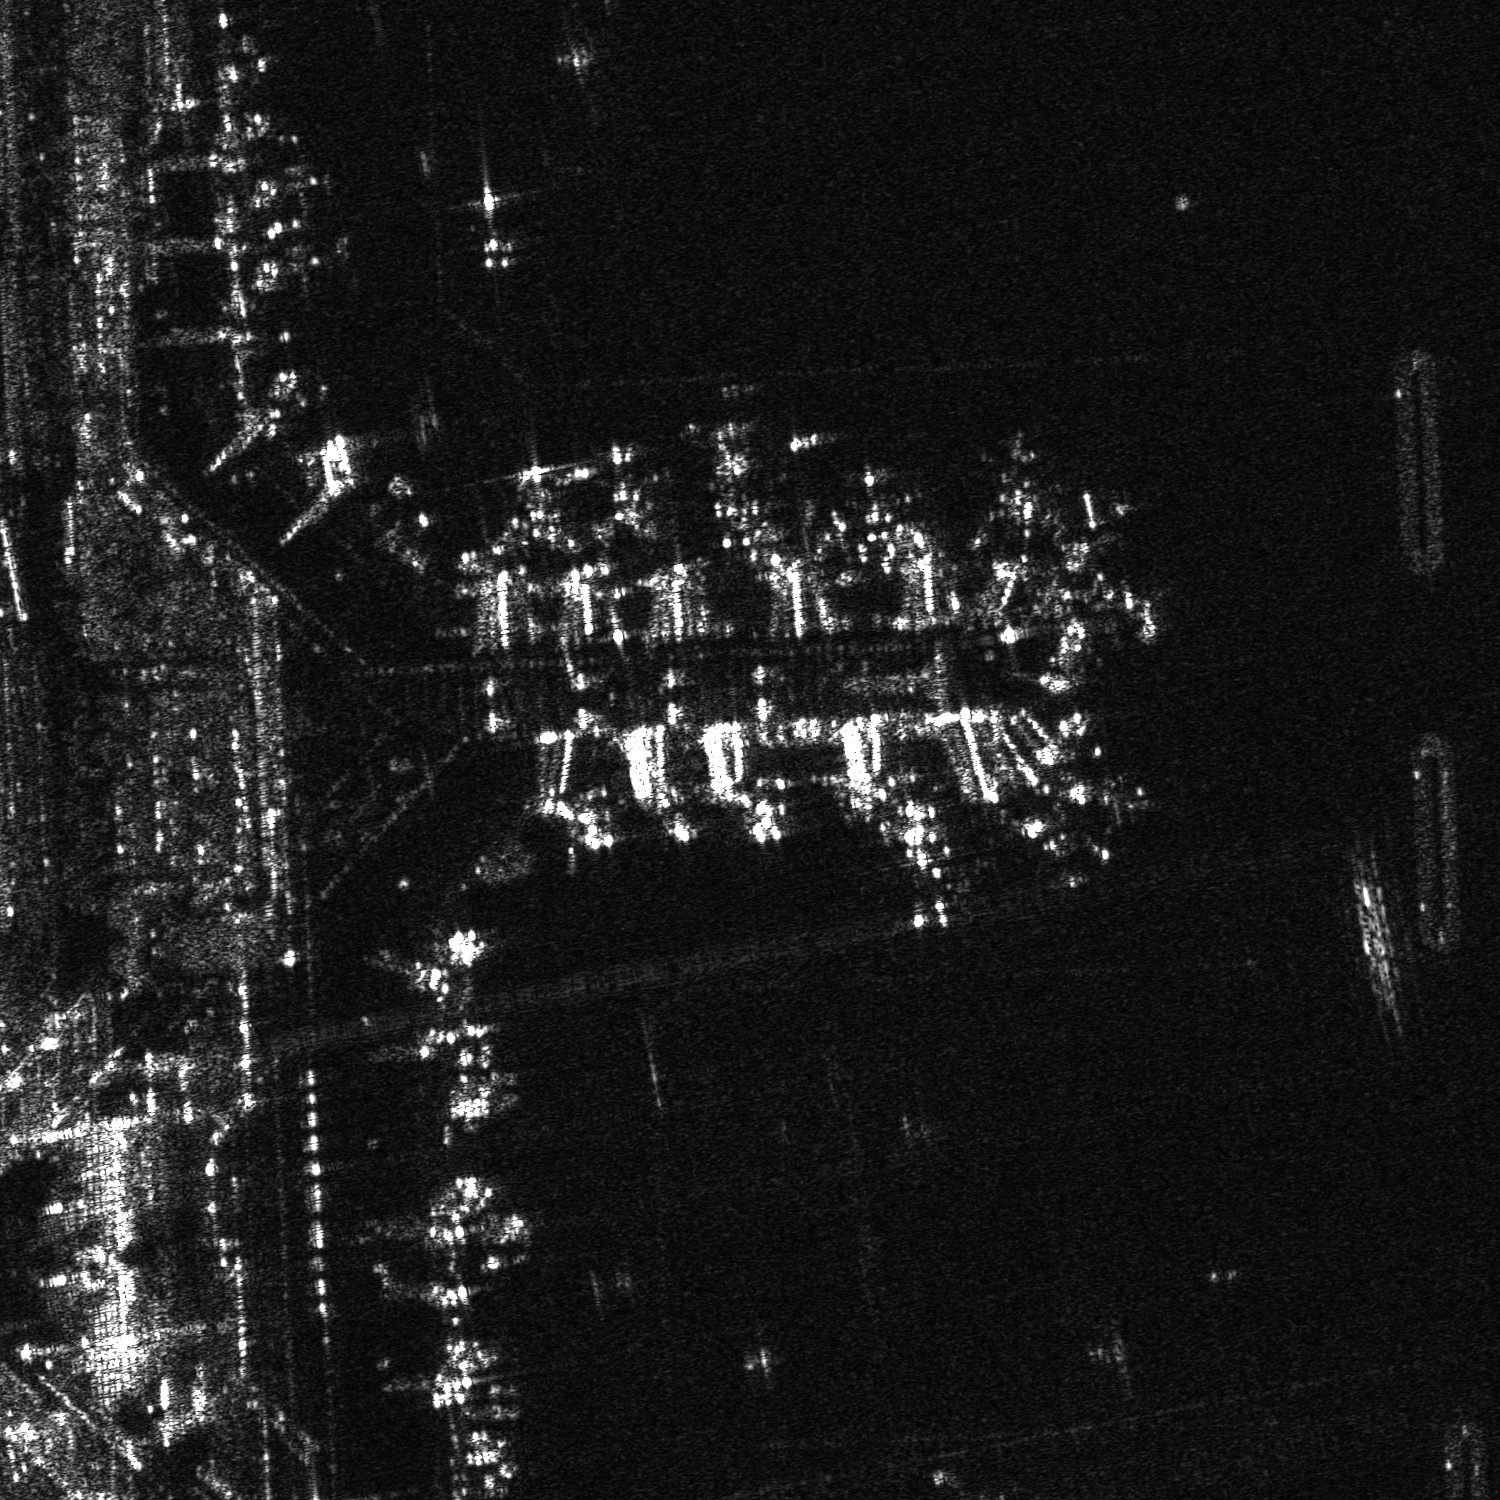A220: (485, 456, 582, 552), (262, 227, 357, 301), (255, 148, 341, 214)
A320/321: (863, 815, 979, 930), (690, 416, 793, 525), (966, 434, 1078, 530), (826, 466, 918, 547), (1058, 766, 1162, 827)
Boeing737: (433, 183, 563, 273), (1010, 812, 1120, 875)
other: (585, 440, 681, 538), (552, 27, 614, 87)
